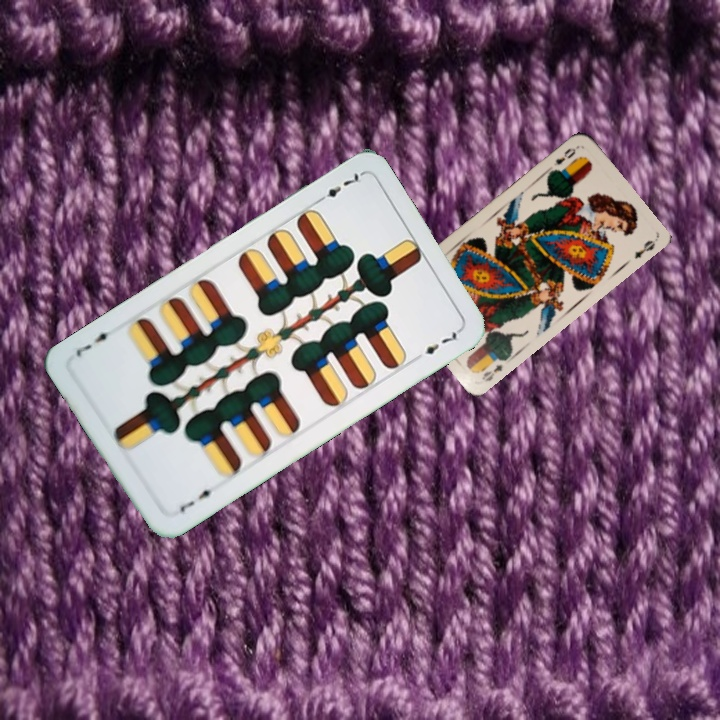E7: (311, 168, 364, 207), (175, 484, 221, 515)
EO: (549, 143, 578, 169), (477, 360, 505, 384)
